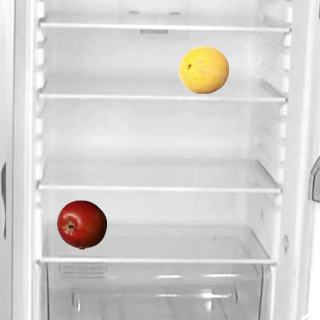Apple Braeburn: (56, 199, 106, 249)
Cantaloupe 1: (178, 44, 228, 94)
